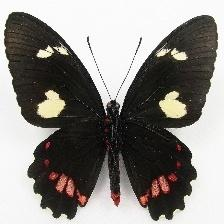butterfly: (4, 12, 218, 221)
